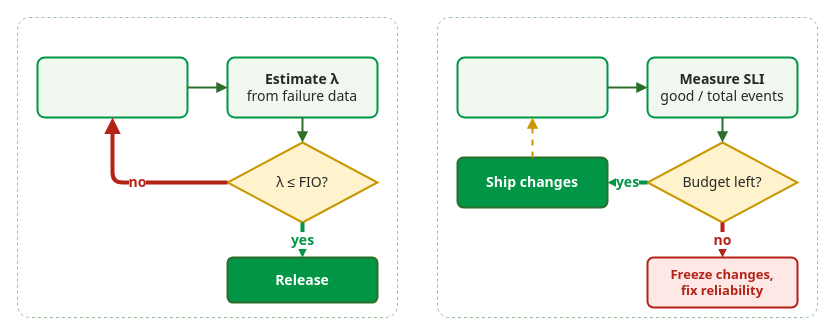
The diagram is 835 pixels wide and 335 high, and some of its shapes have lost their labels. The shapes that lost their labels are listed below. From the top down, each one's box as (x1, y1, x2, y2) in pixels, then its label:
(36, 56, 188, 118): Test with the operational profile
(456, 56, 608, 118): Production traffic
(16, 16, 398, 318): FIO: release gate (before release)
(436, 16, 818, 318): SLO: operational loop (in production)
